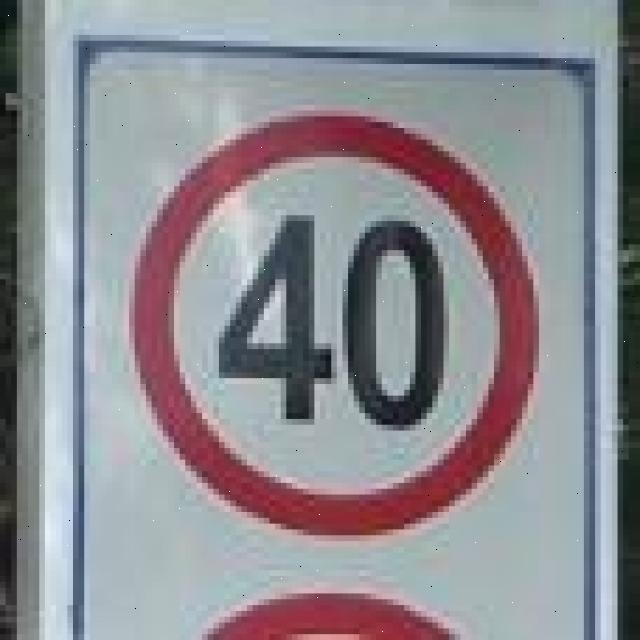speed limit 40: (129, 108, 542, 538)
